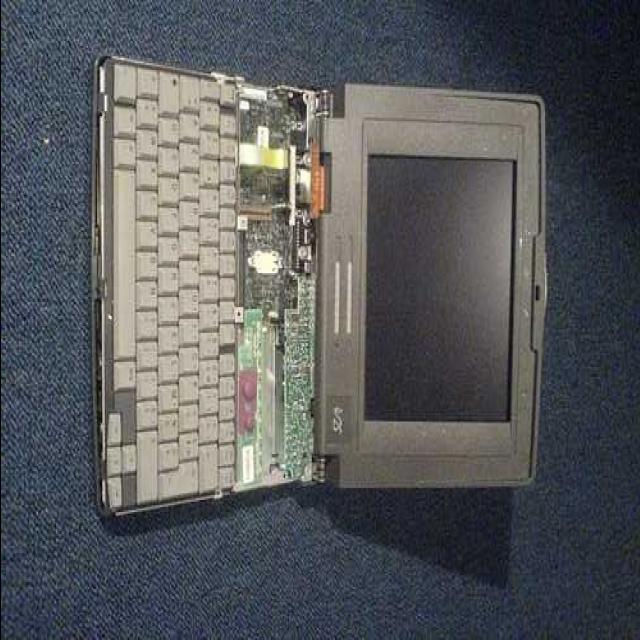laptop: (73, 86, 543, 524)
